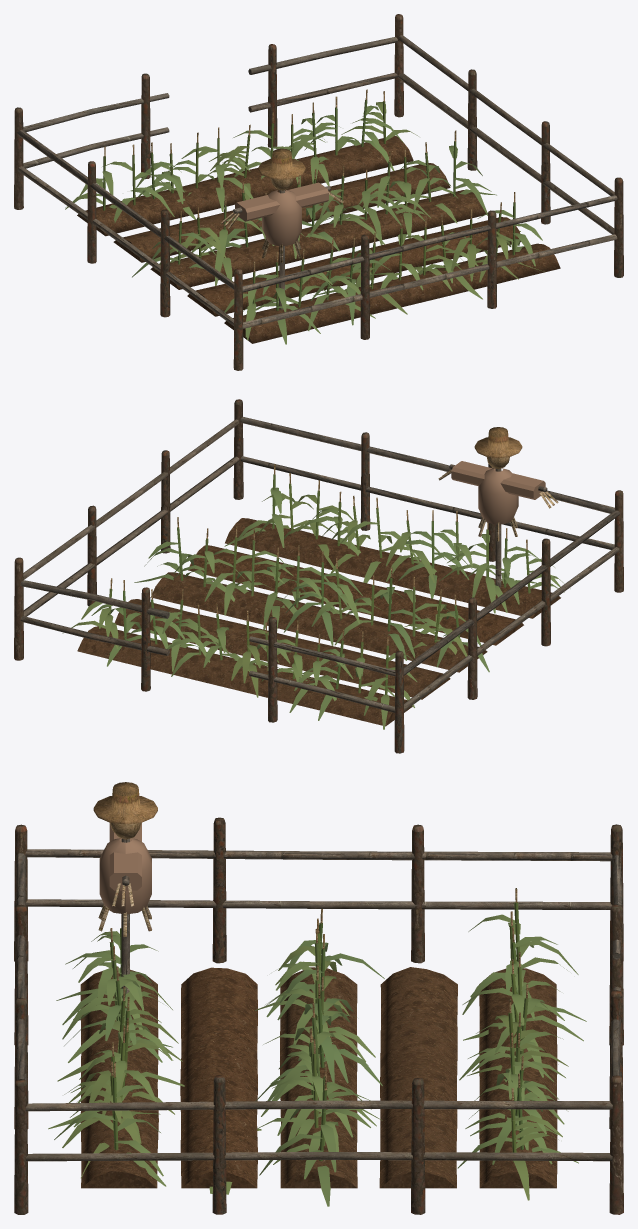
The model's file is b_field.glb.
3 views of the same model, one above another, from view 1: azimuth 30°, elevation 25°; view 2: azimuth 150°, elevation 25°; view 3: azimuth 270°, elevation 25° (orthographic). The views are drawn at different scales.
Parts seen in each view (by area): view 1: b_field; view 2: b_field; view 3: b_field.
Part boxes in pixels (x1,y1,x2,y2): b_field: [14, 14, 623, 370]; b_field: [14, 399, 623, 753]; b_field: [14, 782, 623, 1214].
Size of the model in its own units: 3.78 by 1.57 by 3.79.
Materials: 6 (4 with a texture image).
